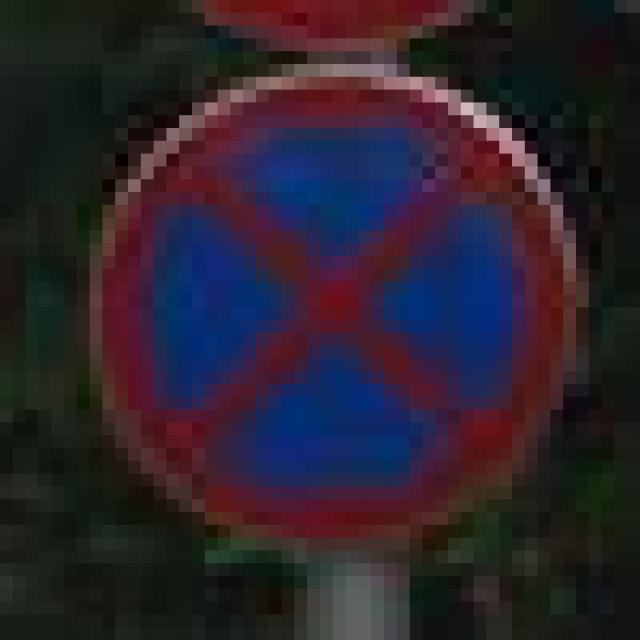no_parking: (77, 51, 563, 525)
